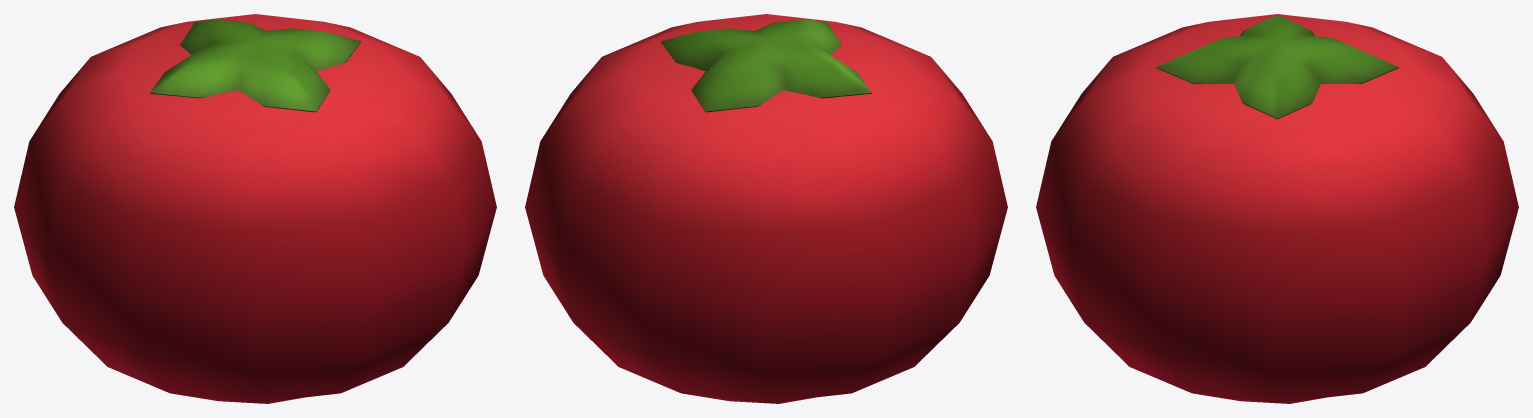
File: tomato_002_v01.fbx
3 renders of one model, left to right at view 1: azimuth 30°, elevation 25°; view 2: azimuth 150°, elevation 25°; view 3: azimuth 270°, elevation 25°, orthographic.
Visible parts, largest first — view 1: Cube.011; view 2: Cube.011; view 3: Cube.011.
Part boxes in pixels (<box>): Cube.011: <box>14,14,496,403</box>; Cube.011: <box>525,14,1007,403</box>; Cube.011: <box>1036,14,1518,403</box>.
Bounding box in the file's own units: 25 × 19.01 × 25.
Materials: 1 (1 with a texture image).
